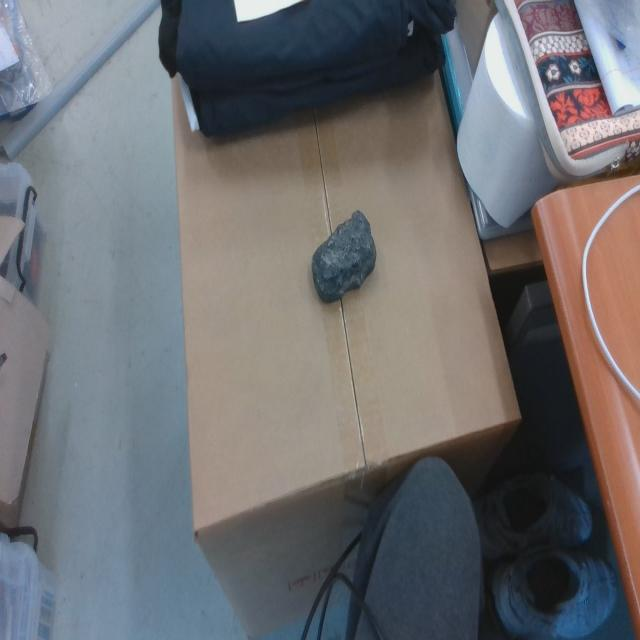stone: (311, 210, 377, 304)
